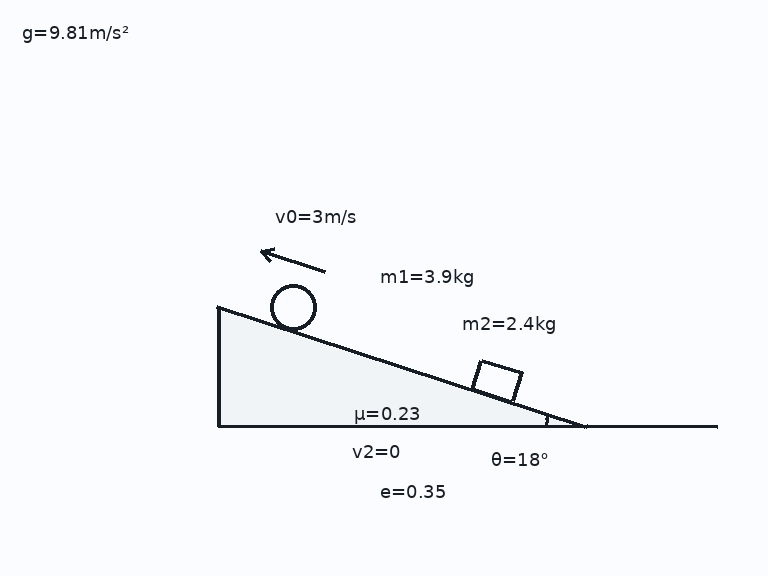ball: (268, 282, 318, 332)
block: (470, 358, 523, 404)
ramp: (216, 304, 588, 428)
